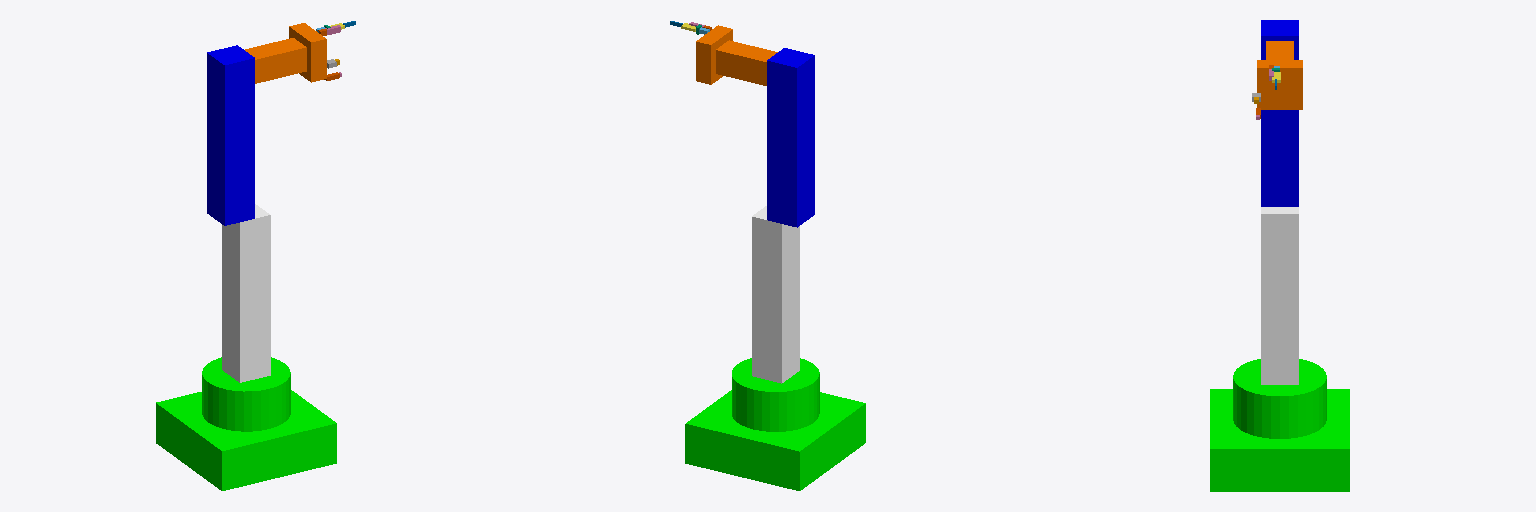
robot.urdf — robot:
<?xml version='1.0' encoding='utf-8'?>
<robot name="robot">
  <link name="base_link">
    <visual>
      <origin xyz="0 0 0.125" rpy="0 0 0" />
      <geometry>
        <box size="0.75 0.75 0.25" />
      </geometry>
      <material name="green" />
    </visual>
    <visual>
      <origin xyz="0 0 0.375" rpy="0 0 0" />
      <geometry>
        <cylinder length="0.25" radius="0.25" />
      </geometry>
      <material name="green">
        <color rgba="0 1 0 1" />
      </material>
    </visual>
    <collision>
      <geometry>
        <box size="0.75 0.75 0.5" />
      </geometry>
    </collision>
    <inertial>
      <mass value="0.5" />
      <inertia ixx="0.034" ixy="0.0" ixz="0.0" iyy="0.034" iyz="0.0" izz="0.034" />
    </inertial>
  </link>
  <link name="support_link">
    <visual>
      <origin xyz="0 0 0.5" rpy="0 0 0" />
      <geometry>
        <box size="0.2 0.2 1" />
      </geometry>
      <material name="white">
        <color rgba="1 1 1 1" />
      </material>
    </visual>
    <collision>
      <geometry>
        <box size="0.2 0.2 1" />
      </geometry>
    </collision>
    <inertial>
      <mass value="0.1" />
      <inertia ixx="0.01" ixy="0.0" ixz="0.0" iyy="0.01" iyz="0.0" izz="0.01" />
    </inertial>
  </link>
  <joint name="support_joint" type="continuous">
    <origin xyz="0 0 0.5" rpy="0 0 0" />
    <parent link="base_link" />
    <child link="support_link" />
    <axis xyz="0 0 1" />
  </joint>
  <link name="arm_link">
    <visual>
      <origin xyz="0 0 0.5" rpy="0 0 0" />
      <geometry>
        <box size="0.2 0.2 1" />
      </geometry>
      <material name="blue">
        <color rgba="0 0 1 1" />
      </material>
    </visual>
    <collision>
      <geometry>
        <box size="0.2 0.2 1" />
      </geometry>
    </collision>
    <inertial>
      <mass value="0.1" />
      <inertia ixx="0.01" ixy="0.0" ixz="0.0" iyy="0.01" iyz="0.0" izz="0.01" />
    </inertial>
  </link>
  <joint name="arm_joint" type="revolute">
    <origin xyz="-0.1 0 1" rpy="0 0 0" />
    <parent link="support_link" />
    <child link="arm_link" />
    <axis xyz="0 1 0" />
    <limit lower="-3.14" upper="3.14" effort="1.0" velocity="1.0" />
  </joint>
  <link name="wrist_link">
    <visual>
      <origin xyz="0 0 0.25" rpy="0 0 0" />
      <geometry>
        <box size="0.15 0.15 0.5" />
      </geometry>
      <material name="orange">
        <color rgba="1 0.5 0 1" />
      </material>
    </visual>
    <collision>
      <geometry>
        <box size="0.15 0.15 0.5" />
      </geometry>
    </collision>
    <inertial>
      <mass value="0.1" />
      <inertia ixx="0.01" ixy="0.0" ixz="0.0" iyy="0.01" iyz="0.0" izz="0.01" />
    </inertial>
  </link>
  <joint name="wrist_joint" type="fixed">
    <origin xyz="0 0 0.9" rpy="0 1.571 0" />
    <parent link="arm_link" />
    <child link="wrist_link" />
  </joint>
  <link name="palm_link">
    <visual>
      <origin xyz="0 0 0.05" rpy="0 0 0" />
      <geometry>
        <box size="0.25 0.25 0.1" />
      </geometry>
      <material name="orange" />
    </visual>
    <collision>
      <geometry>
        <box size="0.25 0.25 0.1" />
      </geometry>
    </collision>
    <inertial>
      <mass value="0.1" />
      <inertia ixx="0.01" ixy="0.0" ixz="0.0" iyy="0.01" iyz="0.0" izz="0.01" />
    </inertial>
  </link>
  <joint name="palm_joint" type="fixed">
    <origin xyz="0 0 0.45" rpy="0 0 0" />
    <parent link="wrist_link" />
    <child link="palm_link" />
  </joint>
  <link name="finger_link_0_0">
    <visual>
      <origin xyz="0 0 0.0225" rpy="0 0 0" />
      <geometry>
        <box size="0.033 0.026 0.045" />
      </geometry>
    </visual>
    <collision>
      <geometry>
        <box size="0.033 0.026 0.045" />
      </geometry>
    </collision>
    <inertial>
      <mass value="0.012" />
      <inertia ixx="0.0" iyy="0.0" izz="0.0" ixy="0" ixz="0" iyz="0" />
    </inertial>
  </link>
  <joint name="finger_joint_palm_link_to_finger_link_0_0" type="revolute">
    <origin xyz="-0.125 -0.044 0.1" rpy="0 0 0" />
    <parent link="palm_link" />
    <child link="finger_link_0_0" />
    <axis xyz="0.0 -1.0 0.0" />
    <limit lower="-3.142" upper="3.142" effort="10" velocity="10" />
  </joint>
  <link name="finger_link_0_1">
    <visual>
      <origin xyz="0 0 0.045" rpy="0 0 0" />
      <geometry>
        <box size="0.034 0.027 0.09" />
      </geometry>
    </visual>
    <collision>
      <geometry>
        <box size="0.034 0.027 0.09" />
      </geometry>
    </collision>
    <inertial>
      <mass value="0.025" />
      <inertia ixx="0.0" iyy="0.0" izz="0.0" ixy="0" ixz="0" iyz="0" />
    </inertial>
  </link>
  <joint name="finger_joint_finger_link_0_0_to_finger_link_0_1" type="revolute">
    <origin xyz="0.0 0.0 0.045" rpy="0 0 0" />
    <parent link="finger_link_0_0" />
    <child link="finger_link_0_1" />
    <axis xyz="1.0 0.0 0.0" />
    <limit lower="-3.142" upper="3.142" effort="10" velocity="10" />
  </joint>
  <link name="finger_link_1_0">
    <visual>
      <origin xyz="0 0 0.0275" rpy="0 0 0" />
      <geometry>
        <box size="0.028 0.048 0.055" />
      </geometry>
    </visual>
    <collision>
      <geometry>
        <box size="0.028 0.048 0.055" />
      </geometry>
    </collision>
    <inertial>
      <mass value="0.022" />
      <inertia ixx="0.0" iyy="0.0" izz="0.0" ixy="0" ixz="0" iyz="0" />
    </inertial>
  </link>
  <joint name="finger_joint_palm_link_to_finger_link_1_0" type="revolute">
    <origin xyz="0.037 -0.125 0.1" rpy="0 0 0" />
    <parent link="palm_link" />
    <child link="finger_link_1_0" />
    <axis xyz="1.0 0.0 0.0" />
    <limit lower="-3.142" upper="3.142" effort="10" velocity="10" />
  </joint>
  <link name="finger_link_1_1">
    <visual>
      <origin xyz="0 0 0.014" rpy="0 0 0" />
      <geometry>
        <box size="0.029 0.023 0.028" />
      </geometry>
    </visual>
    <collision>
      <geometry>
        <box size="0.029 0.023 0.028" />
      </geometry>
    </collision>
    <inertial>
      <mass value="0.006" />
      <inertia ixx="0.0" iyy="0.0" izz="0.0" ixy="0" ixz="0" iyz="0" />
    </inertial>
  </link>
  <joint name="finger_joint_finger_link_1_0_to_finger_link_1_1" type="revolute">
    <origin xyz="0.0 0.0 0.055" rpy="0 0 0" />
    <parent link="finger_link_1_0" />
    <child link="finger_link_1_1" />
    <axis xyz="0.0 1.0 0.0" />
    <limit lower="-3.142" upper="3.142" effort="10" velocity="10" />
  </joint>
  <link name="finger_link_2_0">
    <visual>
      <origin xyz="0 0 0.027" rpy="0 0 0" />
      <geometry>
        <box size="0.026 0.038 0.054" />
      </geometry>
    </visual>
    <collision>
      <geometry>
        <box size="0.026 0.038 0.054" />
      </geometry>
    </collision>
    <inertial>
      <mass value="0.016" />
      <inertia ixx="0.0" iyy="0.0" izz="0.0" ixy="0" ixz="0" iyz="0" />
    </inertial>
  </link>
  <joint name="finger_joint_palm_link_to_finger_link_2_0" type="revolute">
    <origin xyz="-0.125 -0.021 0.1" rpy="0 0 0" />
    <parent link="palm_link" />
    <child link="finger_link_2_0" />
    <axis xyz="0.0 -1.0 0.0" />
    <limit lower="-3.142" upper="3.142" effort="10" velocity="10" />
  </joint>
  <link name="finger_link_2_1">
    <visual>
      <origin xyz="0 0 0.0105" rpy="0 0 0" />
      <geometry>
        <box size="0.043 0.043 0.021" />
      </geometry>
    </visual>
    <collision>
      <geometry>
        <box size="0.043 0.043 0.021" />
      </geometry>
    </collision>
    <inertial>
      <mass value="0.012" />
      <inertia ixx="0.0" iyy="0.0" izz="0.0" ixy="0" ixz="0" iyz="0" />
    </inertial>
  </link>
  <joint name="finger_joint_finger_link_2_0_to_finger_link_2_1" type="revolute">
    <origin xyz="0.0 0.0 0.054" rpy="0 0 0" />
    <parent link="finger_link_2_0" />
    <child link="finger_link_2_1" />
    <axis xyz="0.0 1.0 0.0" />
    <limit lower="-3.142" upper="3.142" effort="10" velocity="10" />
  </joint>
  <link name="finger_link_2_2">
    <visual>
      <origin xyz="0 0 0.047" rpy="0 0 0" />
      <geometry>
        <box size="0.016 0.048 0.094" />
      </geometry>
    </visual>
    <collision>
      <geometry>
        <box size="0.016 0.048 0.094" />
      </geometry>
    </collision>
    <inertial>
      <mass value="0.022" />
      <inertia ixx="0.0" iyy="0.0" izz="0.0" ixy="0" ixz="0" iyz="0" />
    </inertial>
  </link>
  <joint name="finger_joint_finger_link_2_1_to_finger_link_2_2" type="revolute">
    <origin xyz="0.0 0.0 0.021" rpy="0 0 0" />
    <parent link="finger_link_2_1" />
    <child link="finger_link_2_2" />
    <axis xyz="1.0 0.0 0.0" />
    <limit lower="-3.142" upper="3.142" effort="10" velocity="10" />
  </joint>
  <link name="finger_link_2_3">
    <visual>
      <origin xyz="0 0 0.041" rpy="0 0 0" />
      <geometry>
        <box size="0.023 0.011 0.082" />
      </geometry>
    </visual>
    <collision>
      <geometry>
        <box size="0.023 0.011 0.082" />
      </geometry>
    </collision>
    <inertial>
      <mass value="0.006" />
      <inertia ixx="0.0" iyy="0.0" izz="0.0" ixy="0" ixz="0" iyz="0" />
    </inertial>
  </link>
  <joint name="finger_joint_finger_link_2_2_to_finger_link_2_3" type="revolute">
    <origin xyz="0.0 0.0 0.094" rpy="0 0 0" />
    <parent link="finger_link_2_2" />
    <child link="finger_link_2_3" />
    <axis xyz="0.0 1.0 0.0" />
    <limit lower="-3.142" upper="3.142" effort="10" velocity="10" />
  </joint>
  <link name="finger_link_3_0">
    <visual>
      <origin xyz="0 0 0.0435" rpy="0 0 0" />
      <geometry>
        <box size="0.026 0.029 0.087" />
      </geometry>
    </visual>
    <collision>
      <geometry>
        <box size="0.026 0.029 0.087" />
      </geometry>
    </collision>
    <inertial>
      <mass value="0.02" />
      <inertia ixx="0.0" iyy="0.0" izz="0.0" ixy="0" ixz="0" iyz="0" />
    </inertial>
  </link>
  <joint name="finger_joint_palm_link_to_finger_link_3_0" type="revolute">
    <origin xyz="0.125 -0.115 0.1" rpy="0 0 0" />
    <parent link="palm_link" />
    <child link="finger_link_3_0" />
    <axis xyz="0.0 1.0 0.0" />
    <limit lower="-3.142" upper="3.142" effort="10" velocity="10" />
  </joint>
  <link name="finger_link_3_1">
    <visual>
      <origin xyz="0 0 0.008" rpy="0 0 0" />
      <geometry>
        <box size="0.021 0.022 0.016" />
      </geometry>
    </visual>
    <collision>
      <geometry>
        <box size="0.021 0.022 0.016" />
      </geometry>
    </collision>
    <inertial>
      <mass value="0.002" />
      <inertia ixx="0.0" iyy="0.0" izz="0.0" ixy="0" ixz="0" iyz="0" />
    </inertial>
  </link>
  <joint name="finger_joint_finger_link_3_0_to_finger_link_3_1" type="revolute">
    <origin xyz="0.0 0.0 0.087" rpy="0 0 0" />
    <parent link="finger_link_3_0" />
    <child link="finger_link_3_1" />
    <axis xyz="0.0 1.0 0.0" />
    <limit lower="-3.142" upper="3.142" effort="10" velocity="10" />
  </joint>
</robot>

--- Render facts (derived) ---
3 views of the same robot in one strip: view 1: azimuth 30°, elevation 25°; view 2: azimuth 150°, elevation 25°; view 3: azimuth 270°, elevation 25° (orthographic).
Model robot with 15 links and 14 joints (11 revolute, 1 continuous, 2 fixed), rooted at base_link, posed all joints at 0.
Visible links, largest first — view 1: base_link, arm_link, support_link, wrist_link, palm_link; view 2: base_link, arm_link, support_link, wrist_link, palm_link; view 3: base_link, support_link, arm_link, palm_link, wrist_link.
Link boxes in pixels (left/top/right/bottom): base_link: left=156, top=357, right=336, bottom=490; arm_link: left=207, top=45, right=254, bottom=225; support_link: left=222, top=204, right=270, bottom=382; wrist_link: left=245, top=38, right=306, bottom=83; palm_link: left=289, top=23, right=326, bottom=82; base_link: left=685, top=358, right=865, bottom=490; arm_link: left=767, top=48, right=814, bottom=227; support_link: left=752, top=206, right=799, bottom=383; wrist_link: left=716, top=40, right=777, bottom=85; palm_link: left=696, top=25, right=732, bottom=84; base_link: left=1210, top=359, right=1349, bottom=491; support_link: left=1261, top=207, right=1298, bottom=384; arm_link: left=1261, top=20, right=1298, bottom=206; palm_link: left=1257, top=60, right=1302, bottom=109; wrist_link: left=1266, top=41, right=1293, bottom=59.
Bounding box of the posed robot: 1.08 × 0.75 × 2.55 m (x, y, z).
Geometry: primitives only (box / cylinder / sphere), no mesh files.